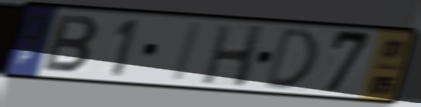1: (109, 17, 141, 78)
7: (322, 27, 374, 97)
B: (40, 12, 102, 76)
D: (262, 24, 321, 91)
H: (199, 23, 267, 90)
I: (170, 20, 204, 84)
